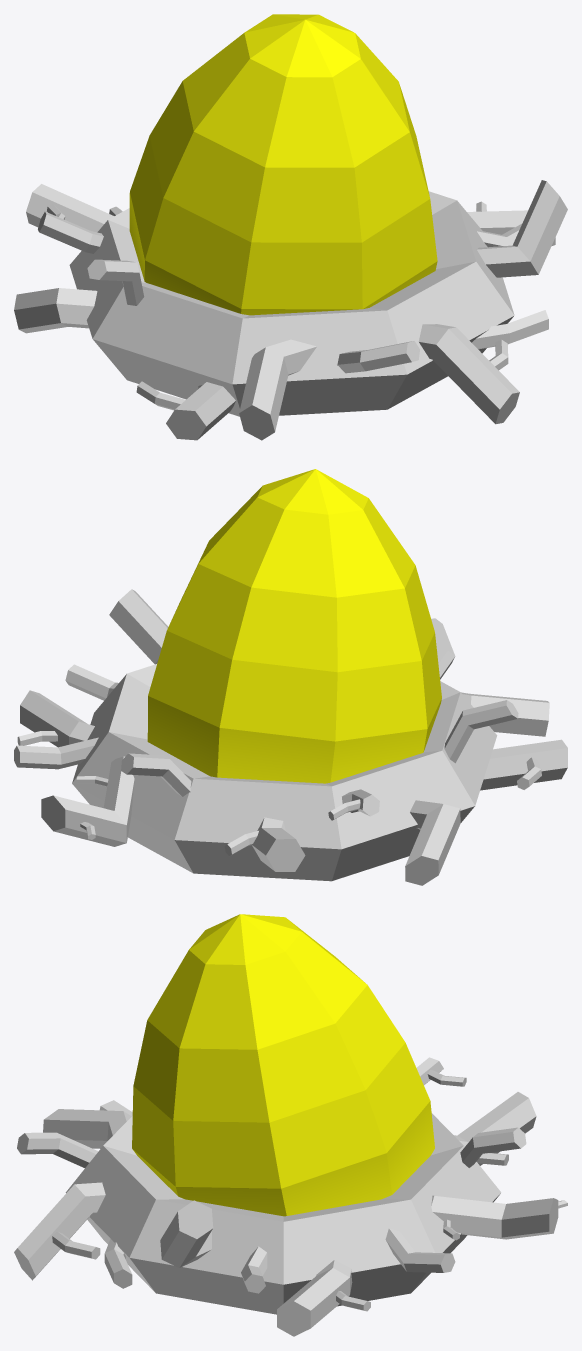
File: Idole_Complexe.FBX
3 renders of one model, top to bottom at view 1: azimuth 30°, elevation 25°; view 2: azimuth 150°, elevation 25°; view 3: azimuth 270°, elevation 25°, orthographic. The views are drawn at different scales.
Visible parts, largest first — view 1: Cylinder344, Torus029, Cylinder349, Cylinder348, Cylinder341, Cylinder337, Cylinder330, Cylinder345, Cylinder350, Cylinder331, Cylinder336, Cylinder329 (+3 smaller); view 2: Cylinder344, Torus029, Cylinder333, Cylinder337, Cylinder330, Cylinder338, Cylinder341, Cylinder345, Cylinder348, Cylinder331, Cylinder340, Cylinder328 (+3 smaller); view 3: Cylinder344, Torus029, Cylinder333, Cylinder349, Cylinder338, Cylinder341, Cylinder348, Cylinder345, Cylinder350, Cylinder340, Cylinder328, Cylinder329 (+2 smaller).
Part boxes in pixels (bbox=[...]): Cylinder344: bbox=[129, 14, 437, 315]; Torus029: bbox=[69, 191, 514, 416]; Cylinder349: bbox=[418, 324, 519, 424]; Cylinder348: bbox=[239, 339, 316, 440]; Cylinder341: bbox=[477, 180, 567, 277]; Cylinder337: bbox=[14, 288, 97, 333]; Cylinder330: bbox=[166, 382, 235, 440]; Cylinder345: bbox=[26, 184, 113, 232]; Cylinder350: bbox=[337, 341, 419, 373]; Cylinder331: bbox=[87, 259, 144, 305]; Cylinder336: bbox=[38, 211, 103, 253]; Cylinder329: bbox=[472, 310, 548, 349]; Cylinder344: bbox=[147, 469, 441, 783]; Torus029: bbox=[72, 664, 497, 881]; Cylinder333: bbox=[41, 756, 134, 846]; Cylinder337: bbox=[405, 800, 460, 885]; Cylinder330: bbox=[480, 739, 567, 790]; Cylinder338: bbox=[20, 690, 94, 747]; Cylinder341: bbox=[109, 589, 168, 664]; Cylinder345: bbox=[252, 817, 305, 871]; Cylinder348: bbox=[461, 692, 549, 736]; Cylinder331: bbox=[444, 700, 518, 763]; Cylinder340: bbox=[14, 737, 98, 769]; Cylinder328: bbox=[121, 753, 191, 796]; Cylinder344: bbox=[132, 914, 434, 1216]; Torus029: bbox=[65, 1113, 501, 1314]; Cylinder333: bbox=[431, 1195, 558, 1239]; Cylinder349: bbox=[14, 1182, 105, 1280]; Cylinder338: bbox=[277, 1260, 352, 1336]; Cylinder341: bbox=[160, 1200, 213, 1267]; Cylinder348: bbox=[43, 1109, 131, 1148]; Cylinder345: bbox=[454, 1092, 536, 1165]; Cylinder350: bbox=[17, 1132, 98, 1167]; Cylinder340: bbox=[385, 1228, 455, 1272]; Cylinder328: bbox=[460, 1127, 526, 1167]; Cylinder329: bbox=[104, 1239, 132, 1288].
Size of the model in its own units: 195 by 132 by 203.
